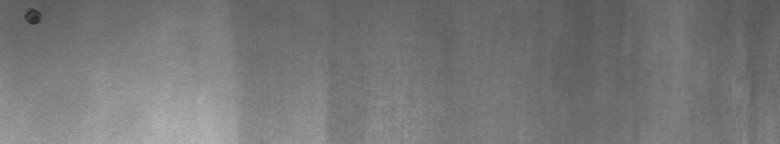fi: (20, 4, 47, 32)
